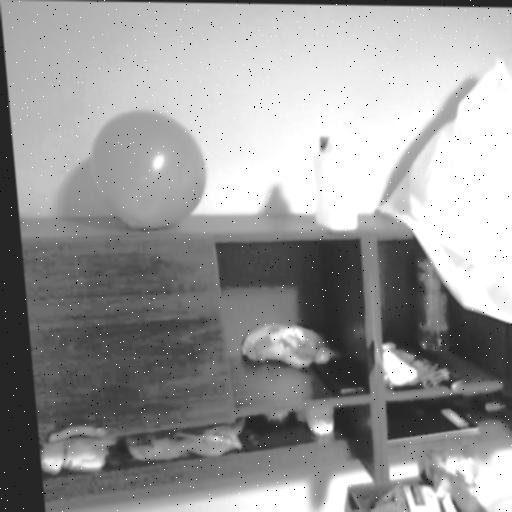balloon: (84, 110, 214, 230)
